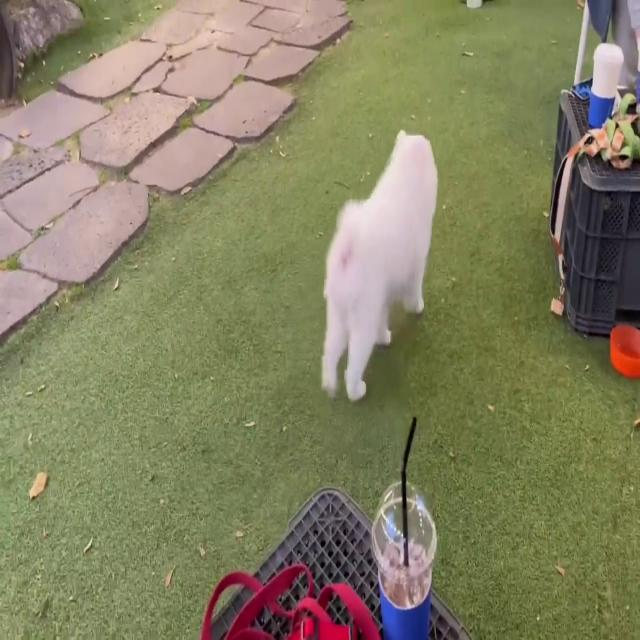Dog: (320, 130, 438, 402)
